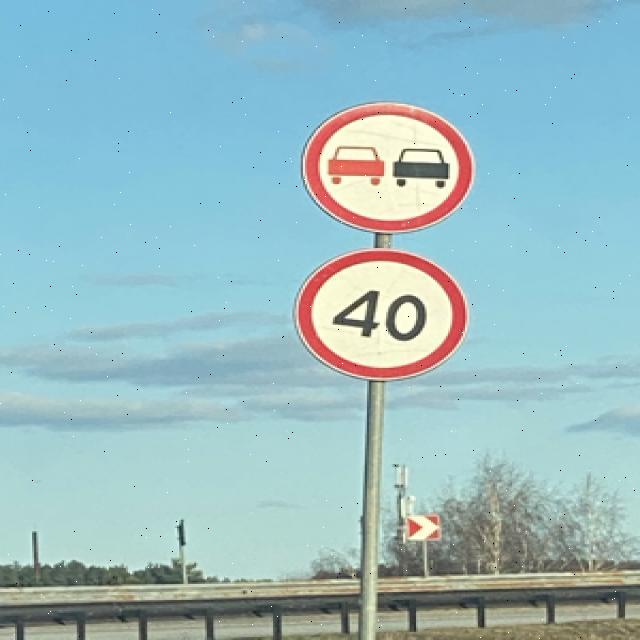speed limit 40: (293, 251, 468, 383)
